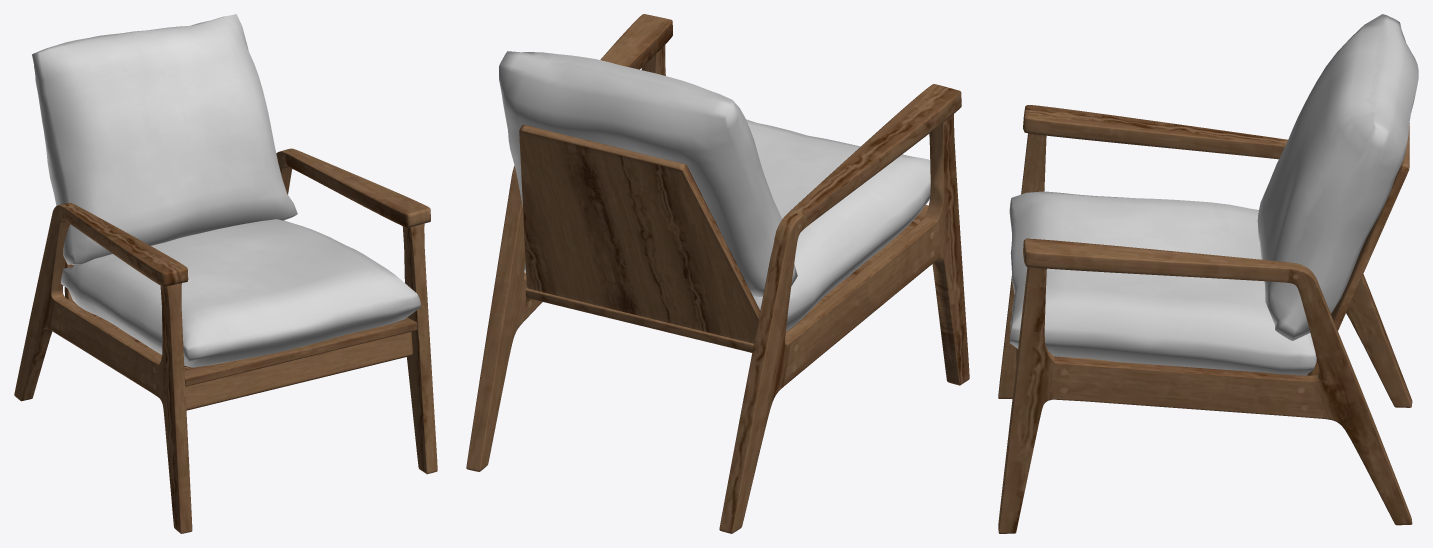
The model's file is armchair-2.fallback.glb.
3 renders of one model, left to right at view 1: azimuth 30°, elevation 25°; view 2: azimuth 150°, elevation 25°; view 3: azimuth 270°, elevation 25°, orthographic. The views are drawn at different scales.
Parts seen in each view (by area): view 1: modern_arm_chair_01; view 2: modern_arm_chair_01; view 3: modern_arm_chair_01.
Part boxes in pixels (x1,y1,x2,y2): modern_arm_chair_01: (14,14,437,533); modern_arm_chair_01: (466,14,969,533); modern_arm_chair_01: (998,14,1418,533).
Bounding box in the file's own units: 0.7383 × 0.9206 × 0.8879.
Materials: 2 (2 with a texture image).
